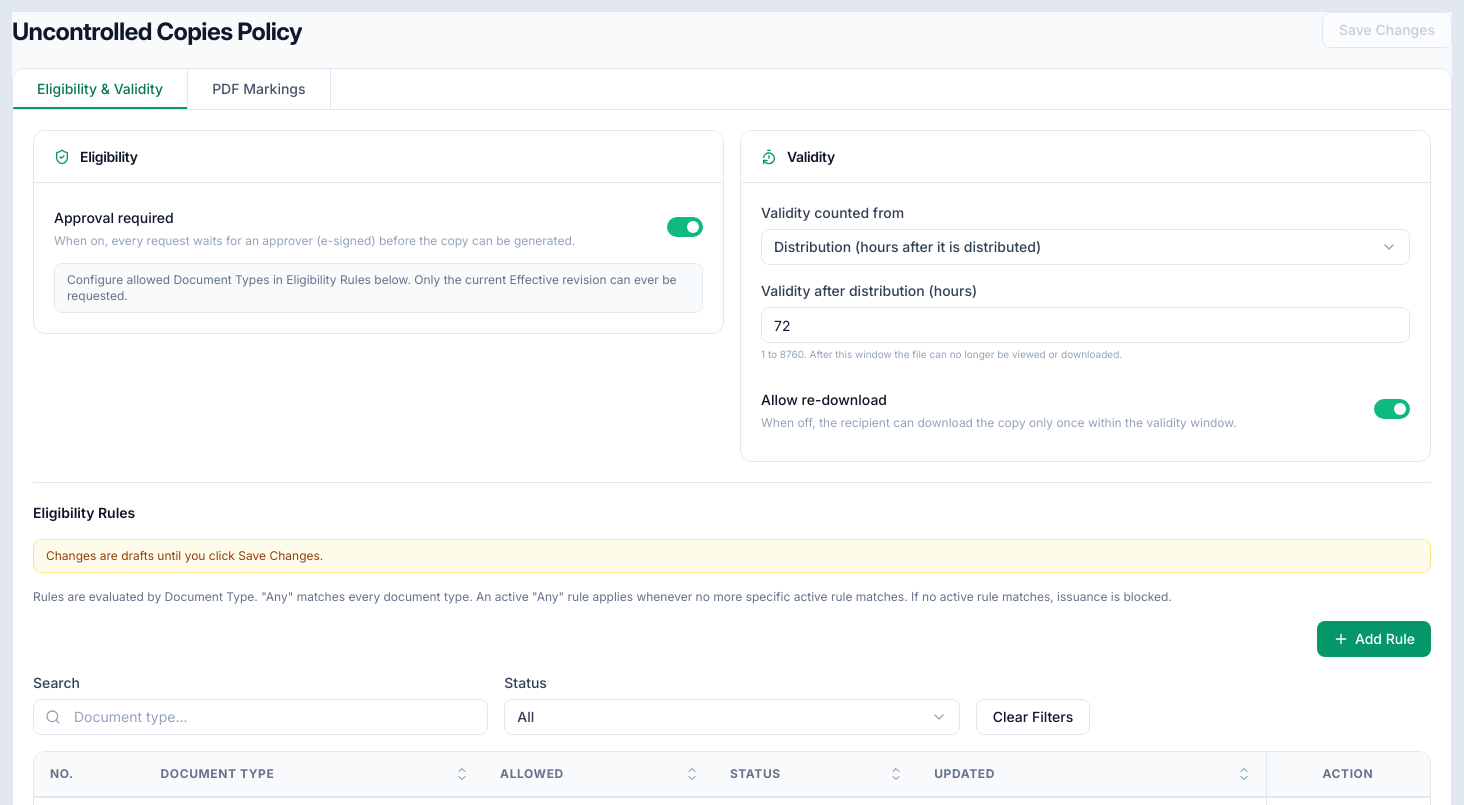
Test: Eligibility Rules table › lets the mandatory watermark go on every page or on the first page only
What coordinates should you click on to do the following:
click the tab "PDF Markings"
I would click on:
 (259, 89)
Its box is [188,69,330,109].
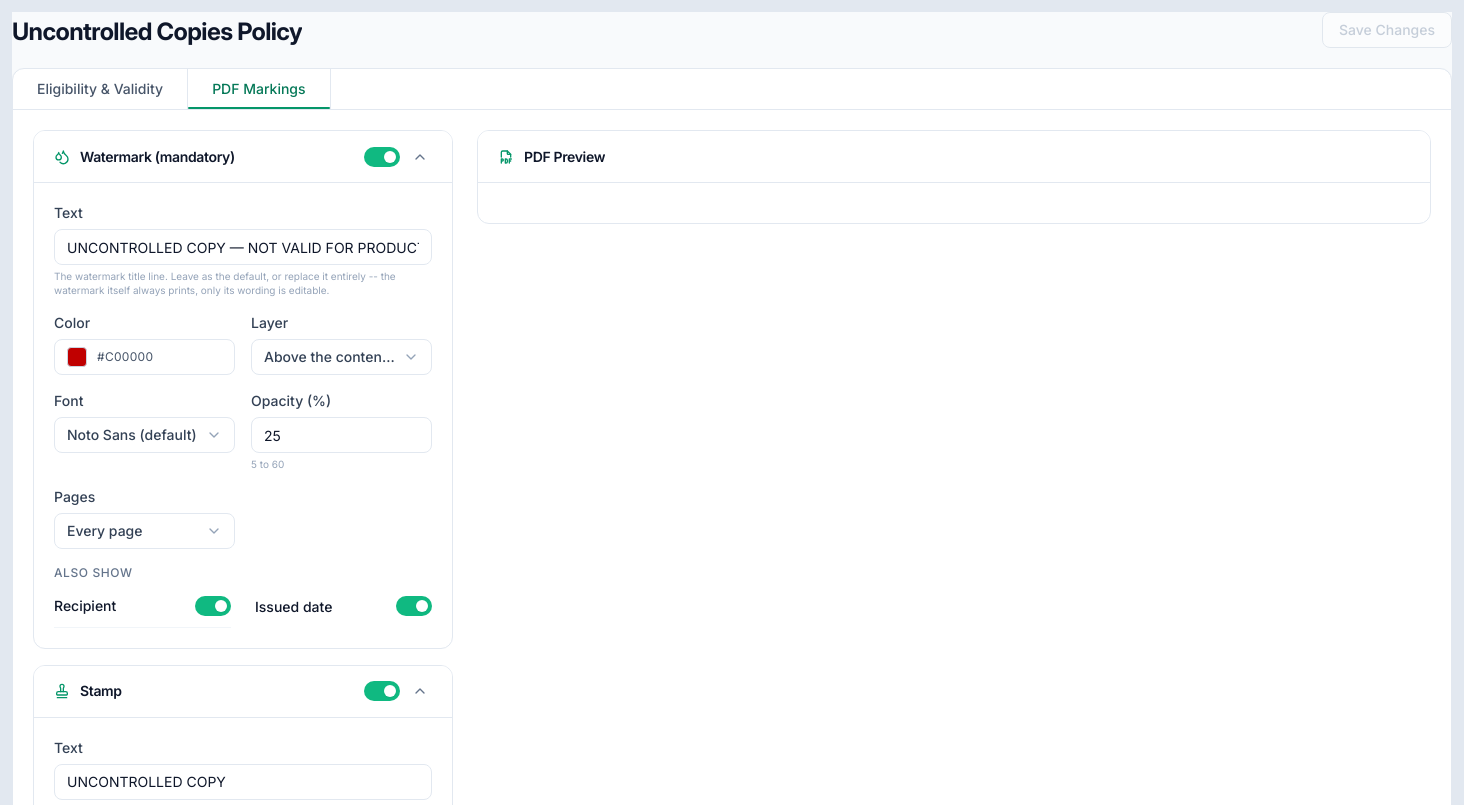
Expected: the text "Pages" is shown, [54,488,95,505]
Expected: the text "Every page" is shown, [67,522,142,539]
